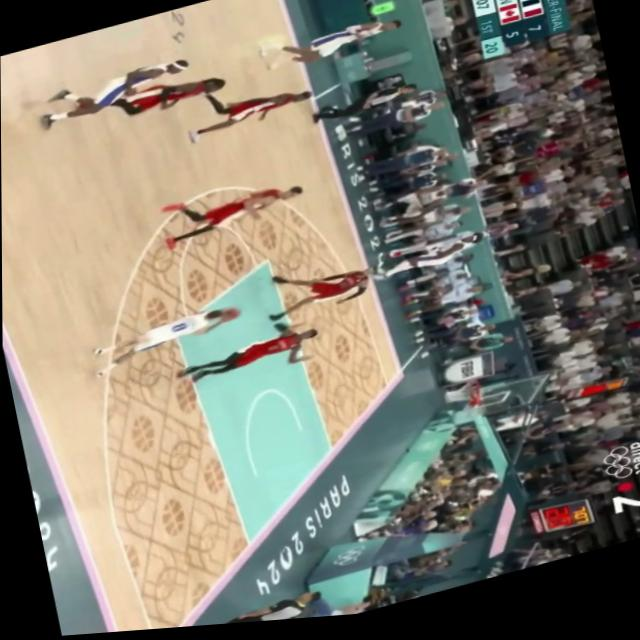ball_handler: (76, 299, 254, 389)
